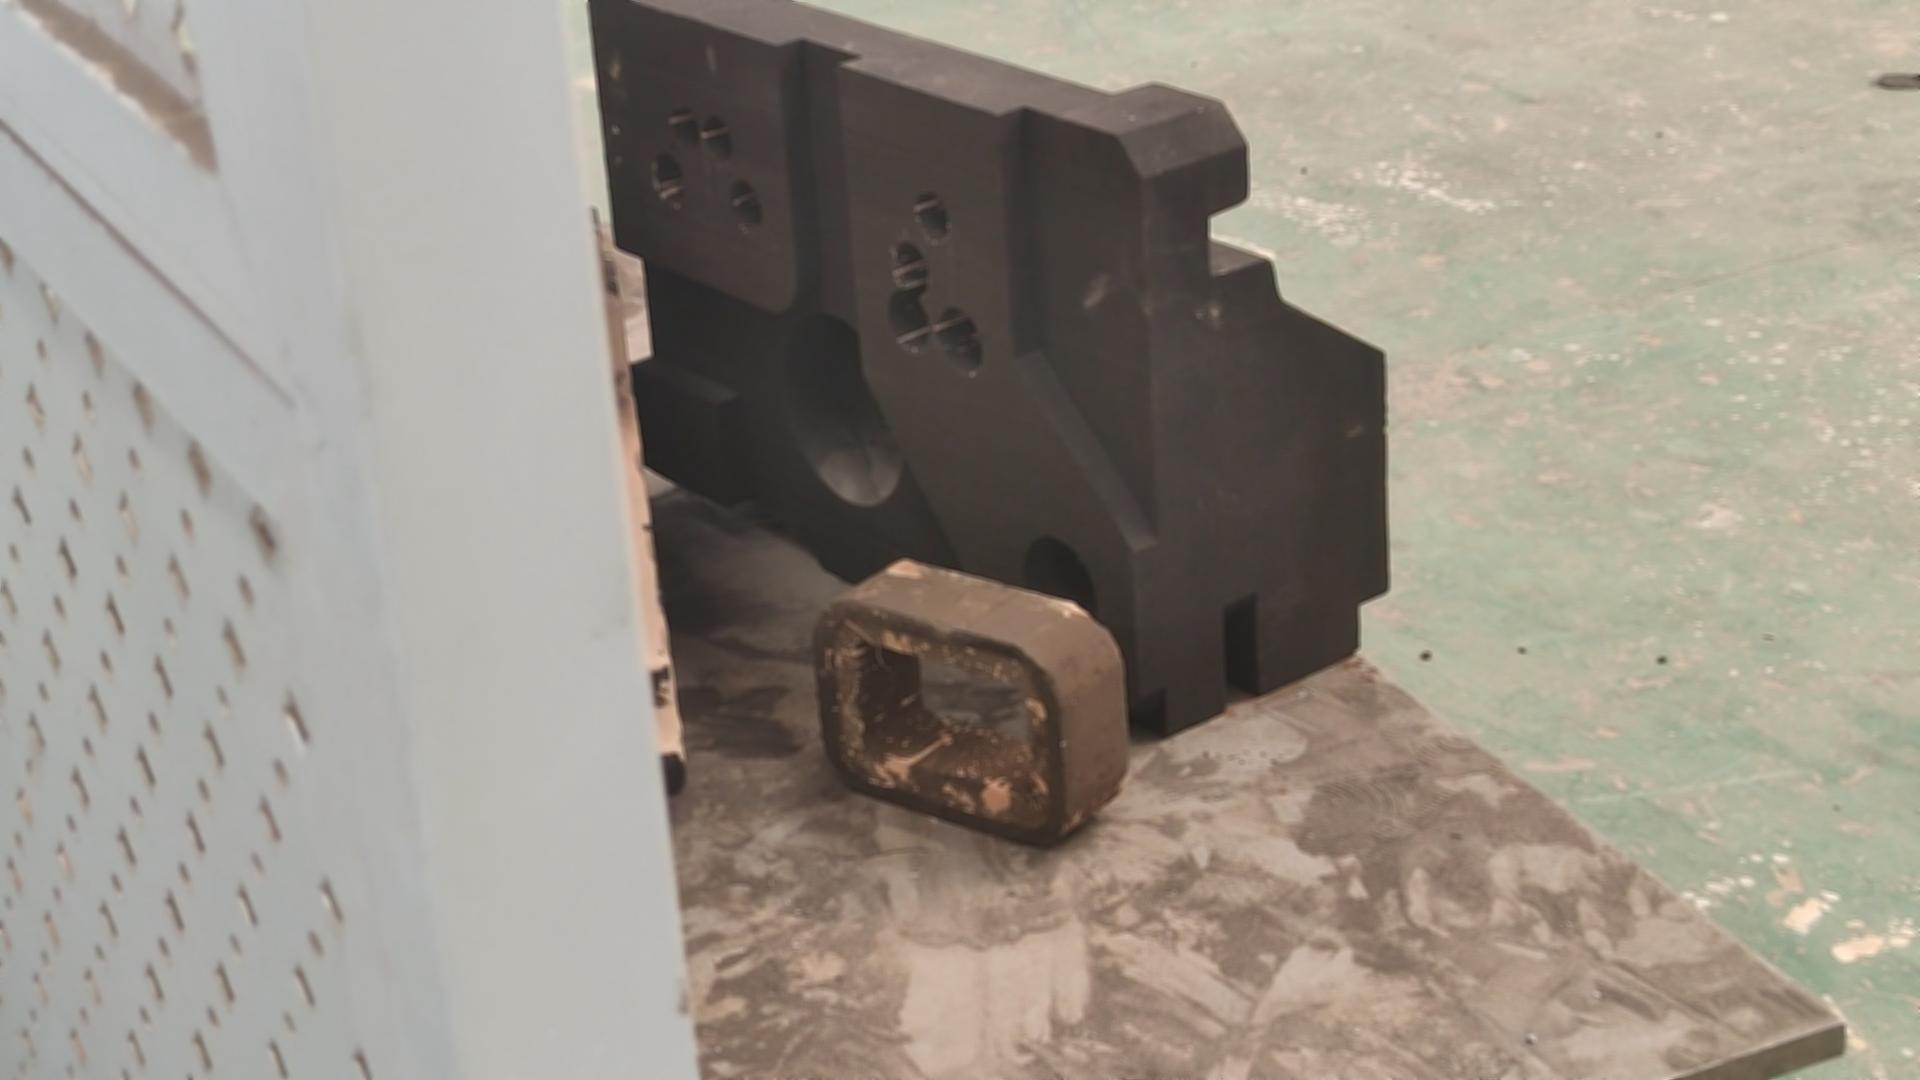pouring hole: (1022, 535, 1100, 632)
